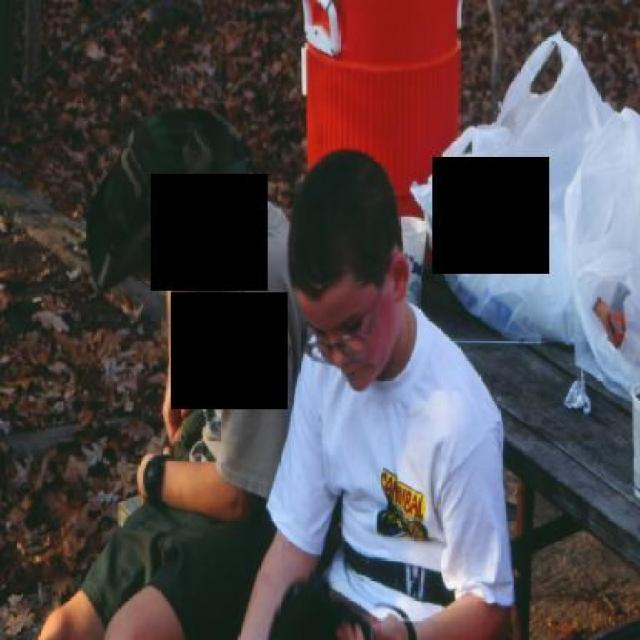plastic bag: (409, 117, 569, 345), (557, 98, 638, 414), (494, 26, 618, 217)
